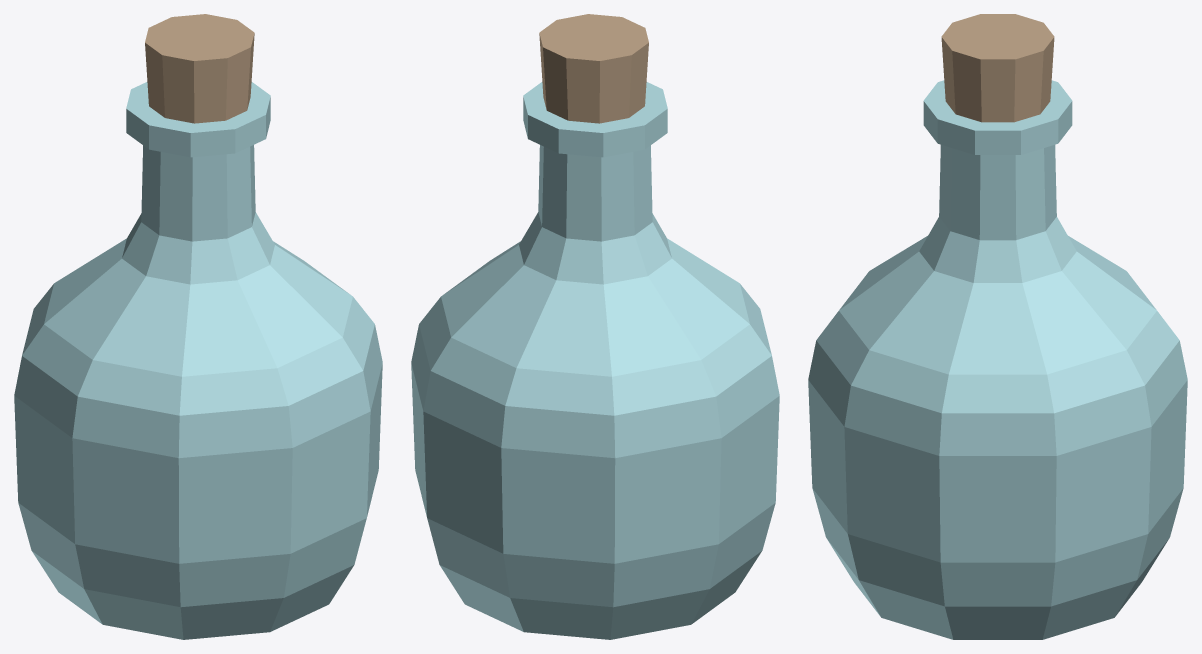
File: Bottle_05.fbx
The picture shows the model from 3 angles, left to right: view 1: azimuth 30°, elevation 25°; view 2: azimuth 150°, elevation 25°; view 3: azimuth 270°, elevation 25°; orthographic projection.
Parts seen in each view (by area): view 1: Bottle_05; view 2: Bottle_05; view 3: Bottle_05.
Part boxes in pixels (<box>): Bottle_05: <box>14,14,382,639</box>; Bottle_05: <box>411,14,779,639</box>; Bottle_05: <box>808,14,1187,639</box>.
Bounding box in the file's own units: 3.24 × 5.4 × 3.41.
